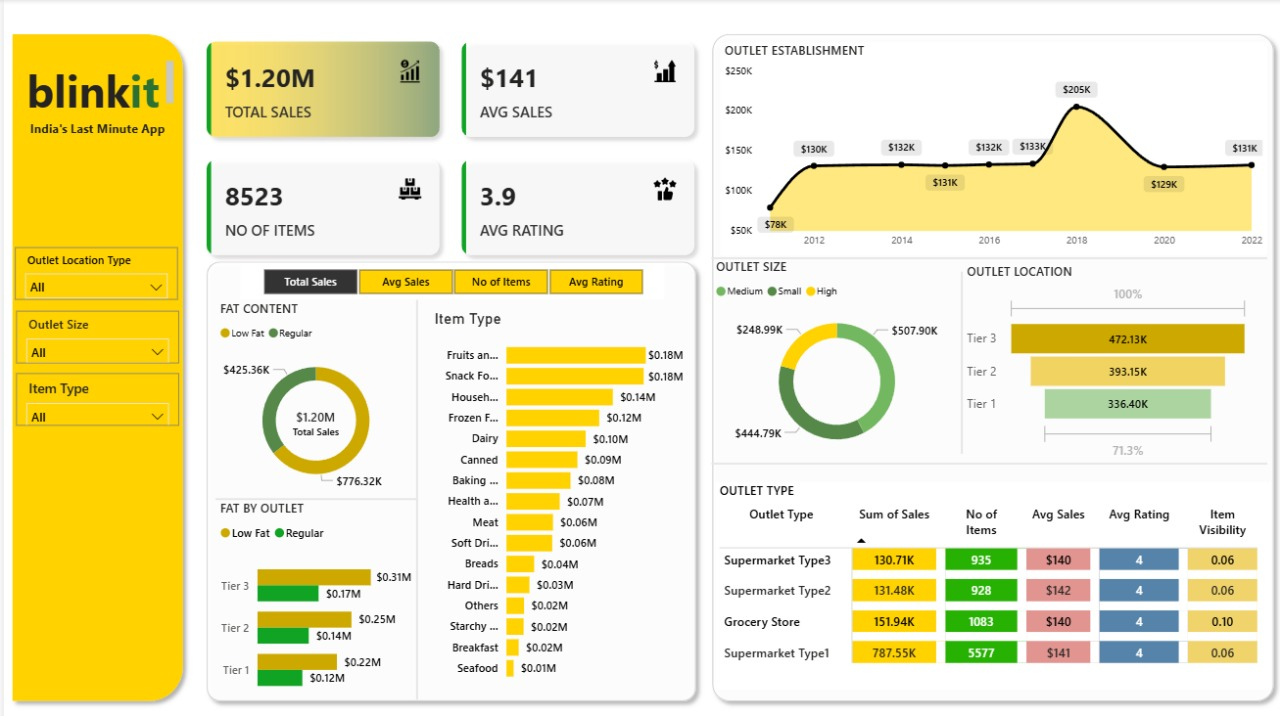

What the dashboard file says about the page in this screenshot:
{"tool":"powerbi","page":{"name":"Page 1","canvas":[1400,800],"ordinal":0},"visuals":[{"type":"shape","box":[0,29.5,205.1,749.3],"z":0},{"type":"textbox","box":[20.1,63,170.2,64.3],"z":1000},{"type":"textbox","box":[17.4,127.3,170.2,29.5],"z":2000},{"type":"cardVisual","fields":{"Data":["BlinkIT Grocery Data.Total Sales","BlinkIT Grocery Data.Avg Sales","BlinkIT Grocery Data.No of Items","BlinkIT Grocery Data.Avg Rating"]},"box":[205.1,29.5,569.7,269.4],"z":3000},{"type":"shape","box":[213.1,278.8,553.6,500],"z":4000},{"type":"donutChart","title":"FAT CONTENT","fields":{"Y":["BlinkIT Grocery Data.Total Sales"],"Category":["BlinkIT Grocery Data.Item Fat Content"]},"box":[231.9,329.8,219.8,219.8],"z":5000},{"type":"slicer","fields":{"Values":["Metrics.Metrics"]},"box":[258.7,289.5,465.1,40.2],"z":6000},{"type":"cardVisual","fields":{"Data":["BlinkIT Grocery Data.Total Sales"]},"box":[285.5,431.6,112.6,67],"z":7000},{"type":"clusteredBarChart","title":"FAT BY OUTLET","fields":{"Y":["BlinkIT Grocery Data.Total Sales"],"Category":["BlinkIT Grocery Data.Outlet Location Type"],"Series":["BlinkIT Grocery Data.Item Fat Content"]},"box":[231.9,548.3,219.8,230.6],"z":8000},{"type":"shape","box":[231.9,522.8,219.8,50.9],"z":9000},{"type":"shape","box":[431.6,329.8,41.6,438.3],"z":10000},{"type":"barChart","title":"Item Type","fields":{"Y":["BlinkIT Grocery Data.Total Sales"],"Category":["BlinkIT Grocery Data.Item Type"]},"box":[466.5,340.5,282.8,416.9],"z":11000},{"type":"shape","box":[766.8,29.5,632.7,749.3],"z":12000},{"type":"lineChart","title":"OUTLET ESTABLISHMENT","fields":{"Category":["BlinkIT Grocery Data.Outlet Establishment Year"],"Y":["BlinkIT Grocery Data.Total Sales"]},"box":[784.2,46.9,599.2,234.6],"z":13000},{"type":"shape","box":[774.8,258.7,608.6,50.9],"z":14000},{"type":"donutChart","title":"OUTLET SIZE","fields":{"Y":["BlinkIT Grocery Data.Total Sales"],"Category":["BlinkIT Grocery Data.Outlet Size"]},"box":[774.8,284.2,275,225],"z":15000},{"type":"shape","box":[1028.2,298.9,41.6,199.7],"z":16000},{"type":"funnel","title":"OUTLET LOCATION","fields":{"Category":["BlinkIT Grocery Data.Outlet Location Type"],"Y":["Sum(BlinkIT Grocery Data.Sales)"]},"box":[1049.6,289.5,319,219.8],"z":17000},{"type":"shape","box":[774.8,483.9,608.6,50.9],"z":18000},{"type":"pivotTable","title":"OUTLET TYPE","fields":{"Rows":["BlinkIT Grocery Data.Outlet Type"],"Values":["Sum(BlinkIT Grocery Data.Sales)","BlinkIT Grocery Data.No of Items","BlinkIT Grocery Data.Avg Sales","BlinkIT Grocery Data.Avg Rating","Avg(BlinkIT Grocery Data.Item Visibility)"]},"box":[778.8,529.5,608.6,227.9],"z":19000},{"type":"slicer","fields":{"Values":["BlinkIT Grocery Data.Outlet Location Type"]},"box":[12.1,272.1,178.3,57.6],"z":19001},{"type":"slicer","fields":{"Values":["BlinkIT Grocery Data.Outlet Size"]},"box":[13.4,341.8,178.3,57.6],"z":19002},{"type":"slicer","fields":{"Values":["BlinkIT Grocery Data.Item Type"]},"box":[13.4,410.2,178.3,57.6],"z":19003}]}

Visuals, with their boxes in screenshot pixels (x1, y1, x2, y2), scaled from the page's 1400x800 canvas onto the 1280x716 screenshot:
shape: (0,26,188,697)
textbox: (18,56,174,114)
textbox: (16,114,172,140)
cardVisual - BlinkIT Grocery Data.Total Sales x BlinkIT Grocery Data.Avg Sales: (188,26,708,268)
shape: (195,250,701,697)
"FAT CONTENT" donutChart: (212,295,413,492)
slicer - Metrics.Metrics: (237,259,662,295)
cardVisual - BlinkIT Grocery Data.Total Sales: (261,386,364,446)
"FAT BY OUTLET" clusteredBarChart: (212,491,413,697)
shape: (212,468,413,513)
shape: (395,295,433,687)
"Item Type" barChart: (427,305,685,678)
shape: (701,26,1279,697)
"OUTLET ESTABLISHMENT" lineChart: (717,42,1265,252)
shape: (708,232,1265,277)
"OUTLET SIZE" donutChart: (708,254,960,456)
shape: (940,268,978,446)
"OUTLET LOCATION" funnel: (960,259,1251,456)
shape: (708,433,1265,479)
"OUTLET TYPE" pivotTable: (712,474,1268,678)
slicer - BlinkIT Grocery Data.Outlet Location Type: (11,244,174,295)
slicer - BlinkIT Grocery Data.Outlet Size: (12,306,175,357)
slicer - BlinkIT Grocery Data.Item Type: (12,367,175,419)
